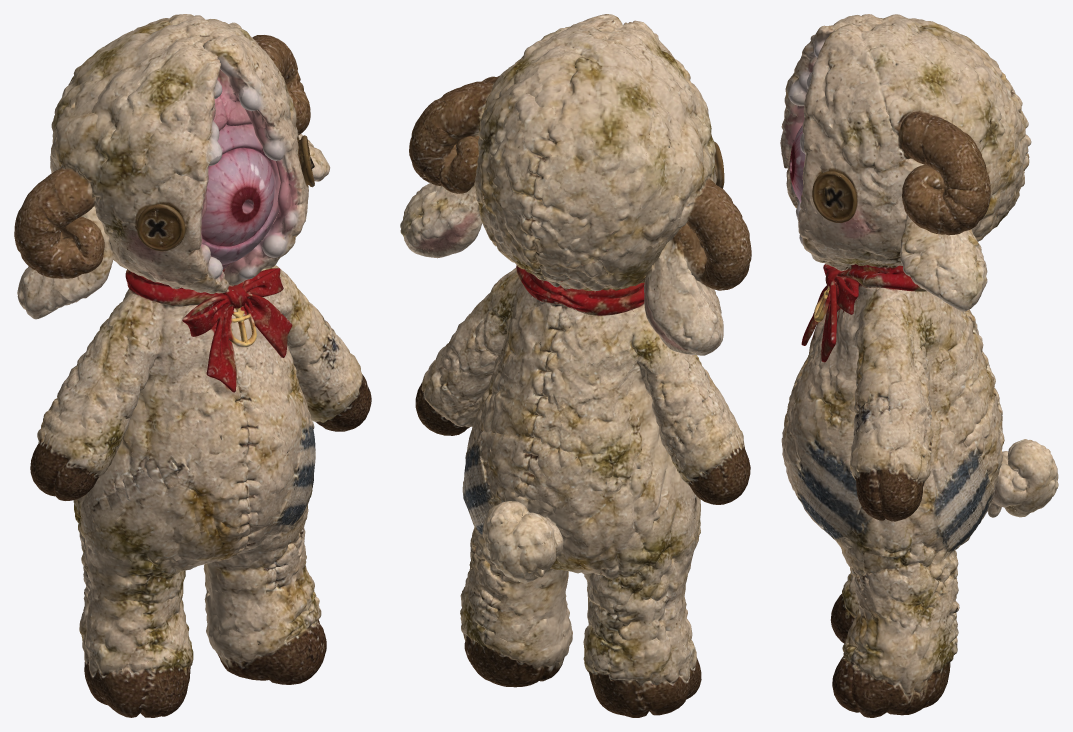
The model's file is agnello_occhio.glb.
3 views of the same model, side by side, from view 1: azimuth 30°, elevation 25°; view 2: azimuth 150°, elevation 25°; view 3: azimuth 270°, elevation 25° (orthographic). The views are drawn at different scales.
Visible parts, largest first — view 1: agnello_occhio.001; view 2: agnello_occhio.001; view 3: agnello_occhio.001.
Part boxes in pixels (left/top/right/bottom): agnello_occhio.001: left=14, top=14, right=371, bottom=717; agnello_occhio.001: left=400, top=14, right=751, bottom=717; agnello_occhio.001: left=780, top=14, right=1058, bottom=717.
Size of the model in its own units: 0.6422 by 1.2 by 0.4687.
Materials: 1 (1 with a texture image).
